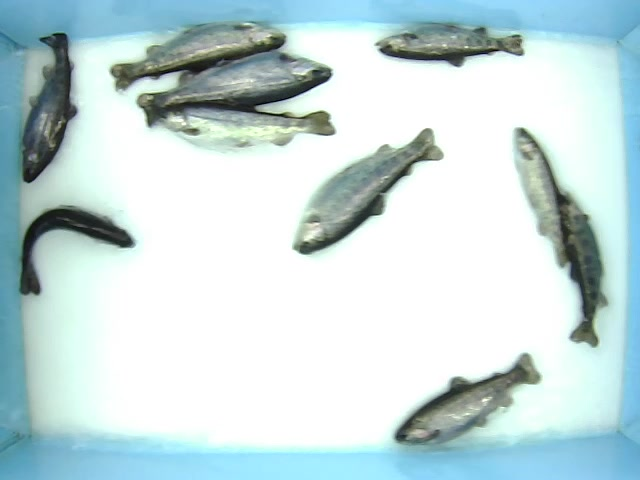fish: (291, 125, 446, 258), (136, 52, 332, 127), (393, 349, 542, 447), (107, 20, 287, 94), (16, 203, 140, 297), (509, 122, 578, 278), (17, 31, 79, 185), (147, 103, 336, 152), (372, 19, 524, 68), (560, 193, 606, 350)
